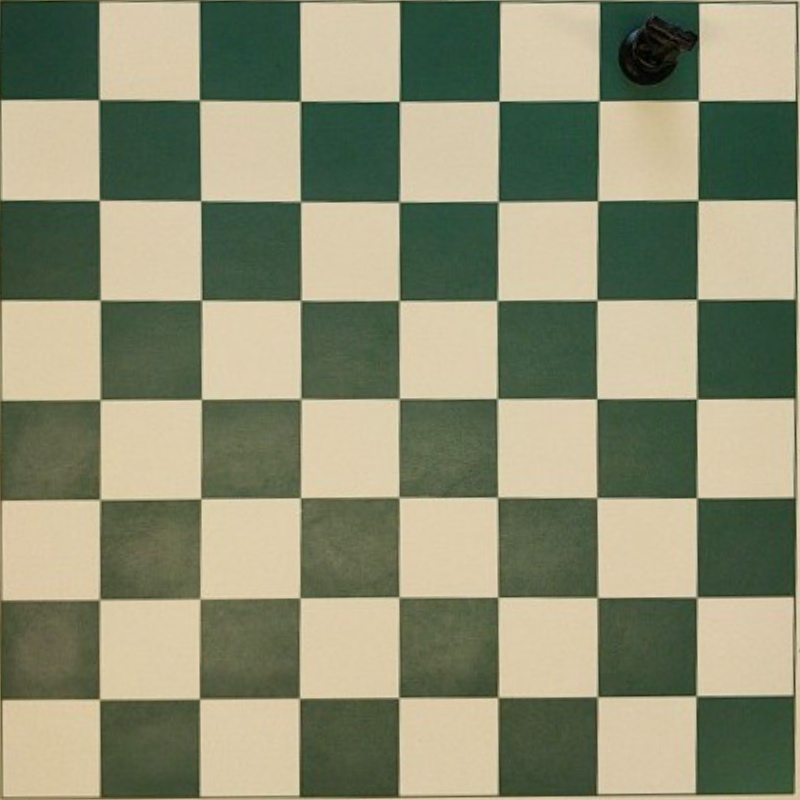black-knight: (620, 17, 697, 84)
